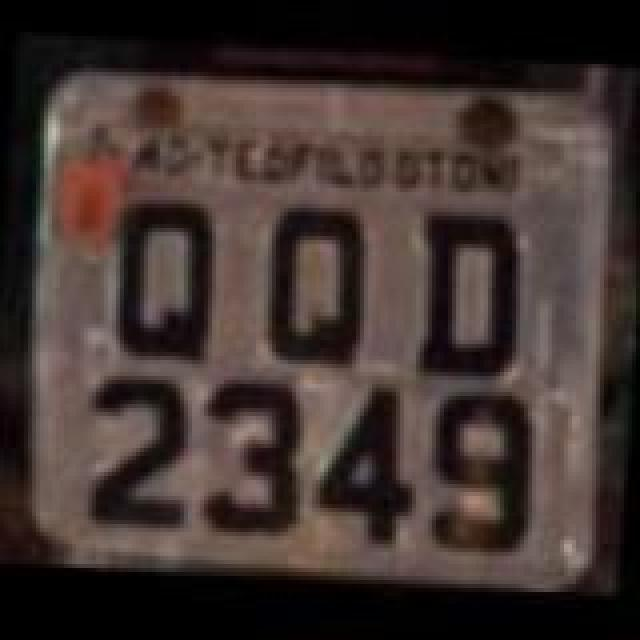2: (80, 368, 200, 532)
3: (194, 378, 318, 538)
4: (312, 384, 432, 552)
9: (430, 388, 546, 556)
D: (412, 214, 528, 378)
Q: (110, 198, 222, 370), (260, 210, 376, 374)
